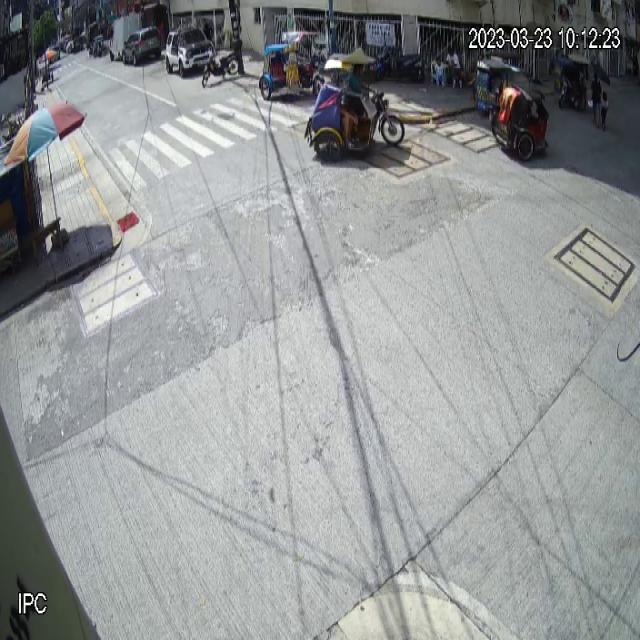Tricycle: (304, 51, 405, 163), (488, 65, 550, 163), (258, 30, 324, 100)
